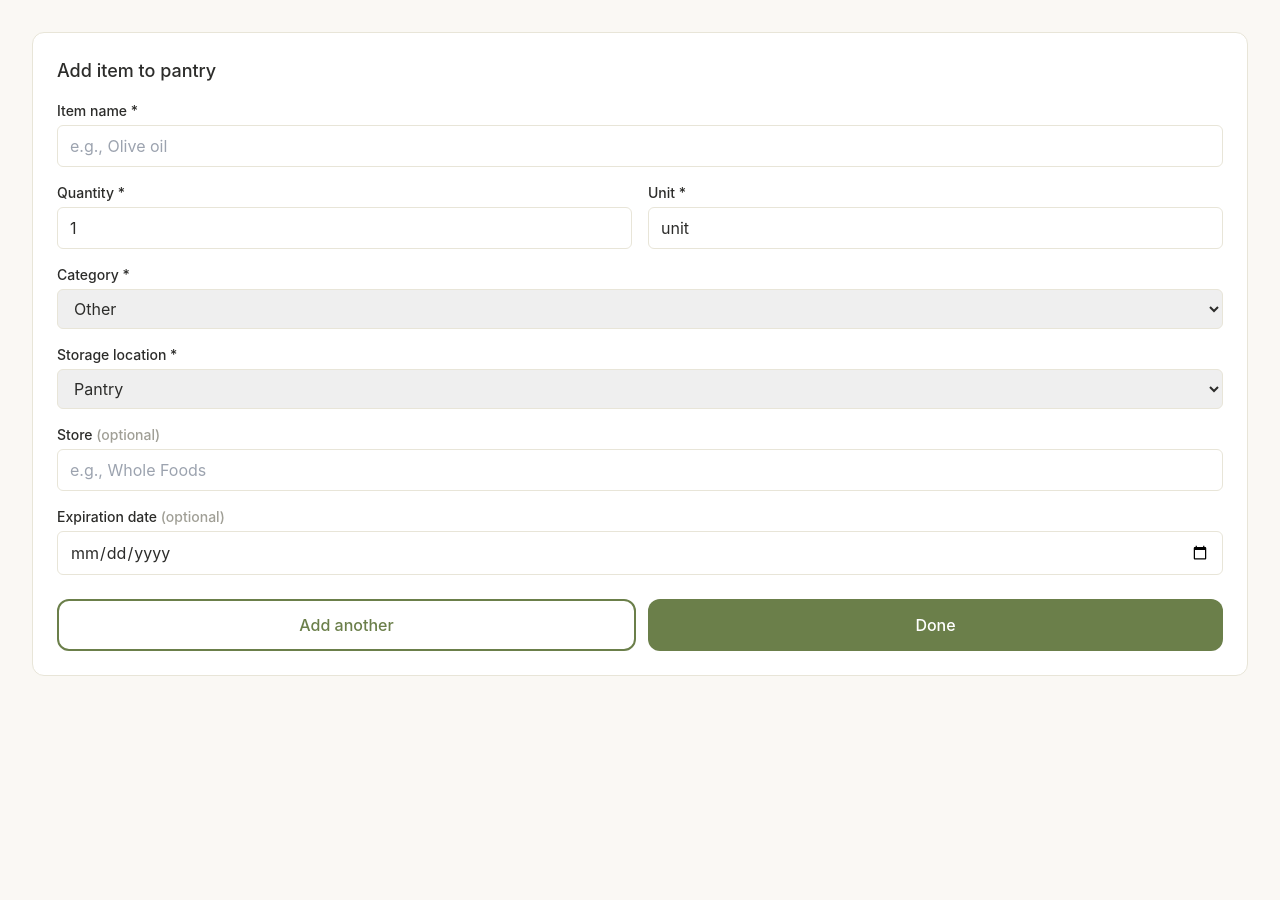
Test case: ManualAddTab › Form Validation › shows validation error when name is empty
Click the button "Add another" at {"x": 346, "y": 625}, box [57,599,636,651]
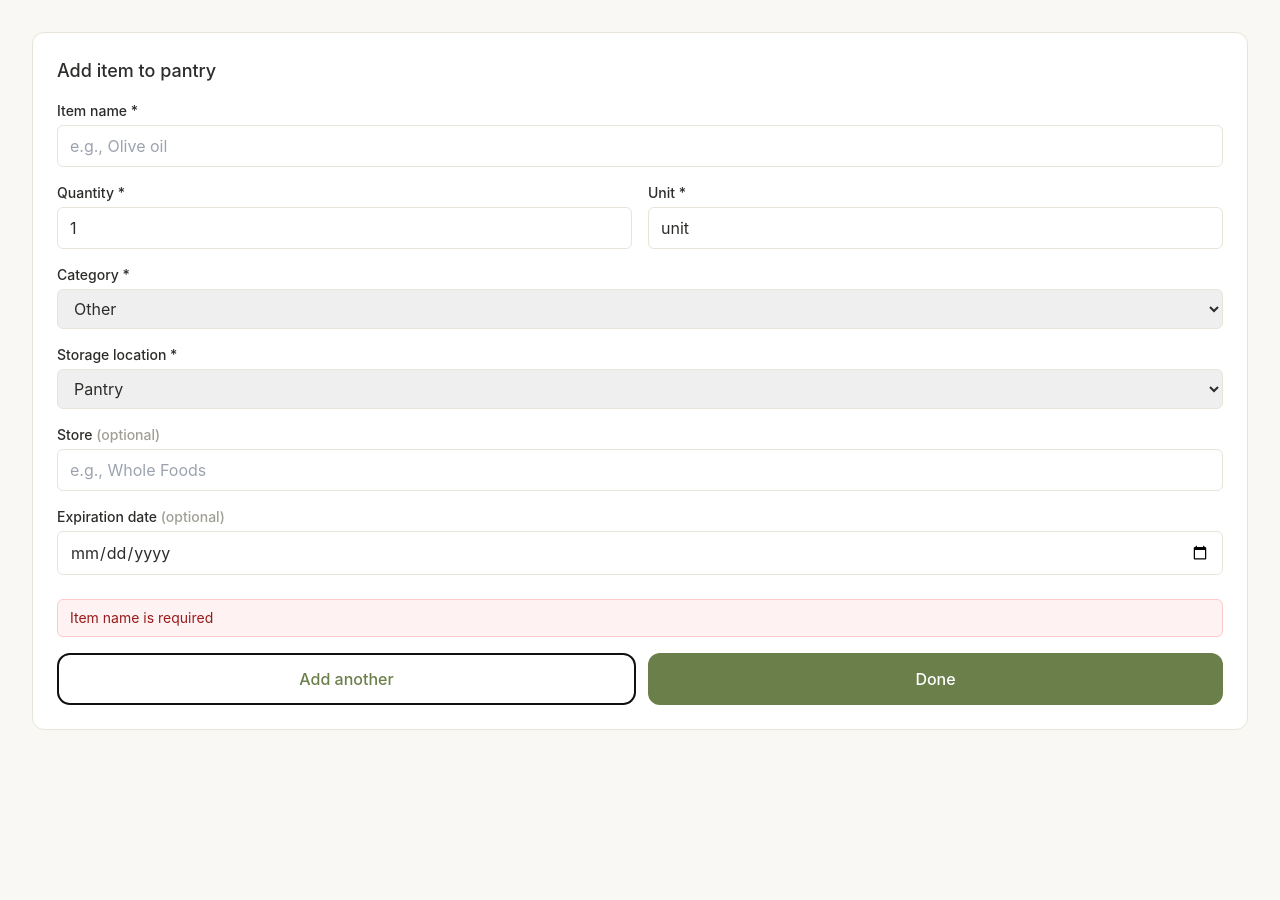
Check: the message reads "Item name is required", box [70,609,213,626]
